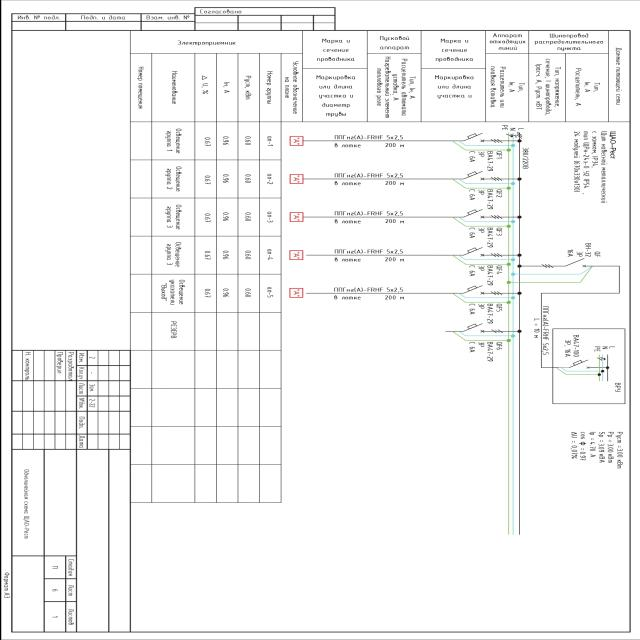-: (569, 129, 618, 206), (466, 150, 494, 172), (466, 302, 494, 324), (465, 264, 493, 286), (466, 226, 494, 248), (466, 340, 494, 362), (466, 188, 492, 210), (564, 242, 591, 258)
QF: (462, 245, 486, 258), (462, 131, 487, 143), (463, 170, 487, 182), (461, 321, 485, 333), (461, 282, 485, 294), (462, 207, 486, 219)
QS: (562, 258, 586, 268)
